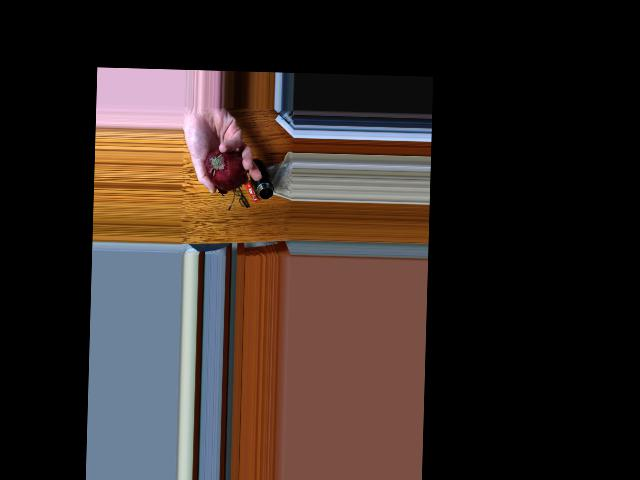onion: (203, 147, 246, 186)
